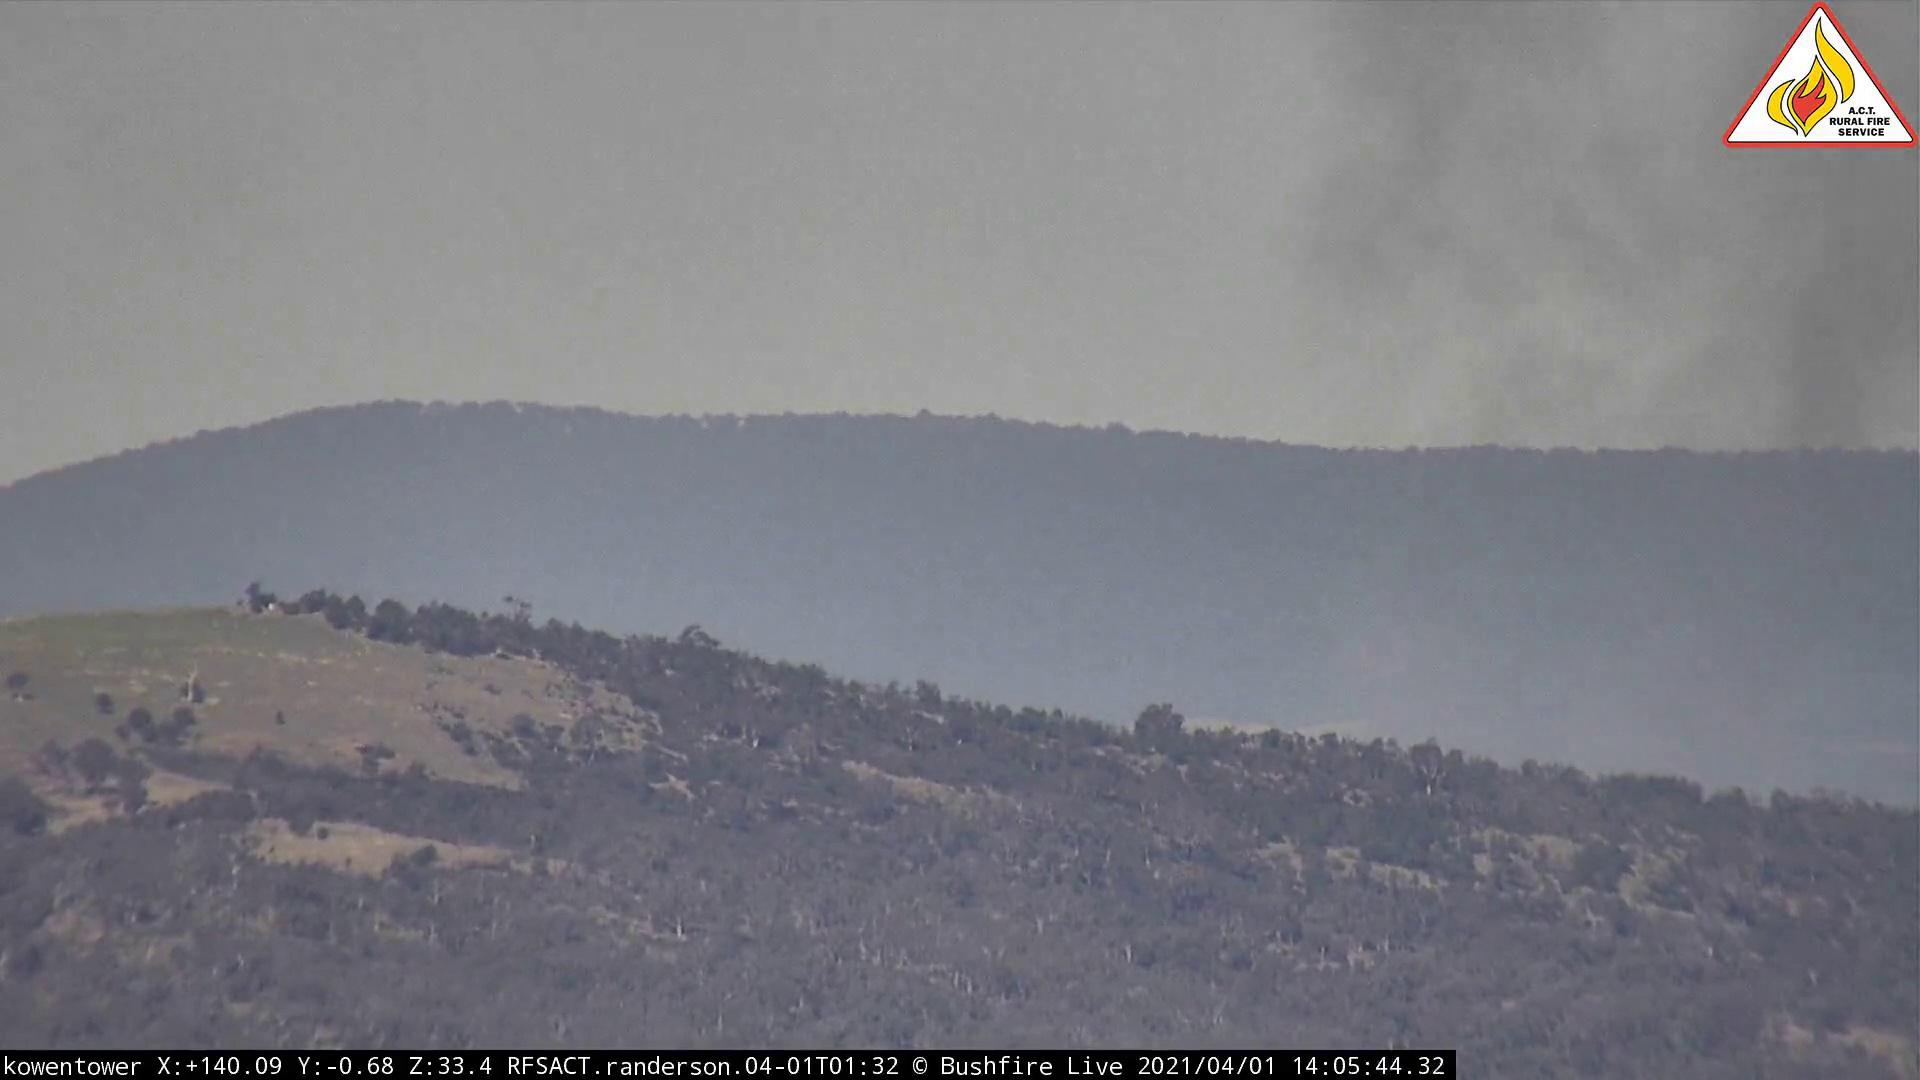Smoke: (1180, 195, 1920, 796)
